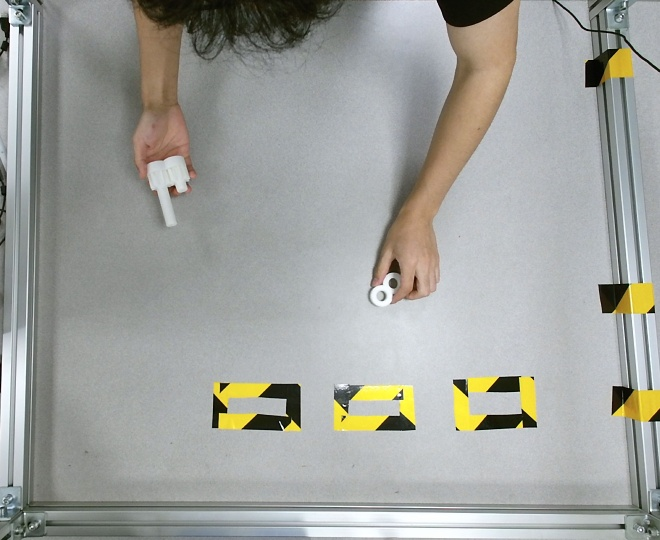stage_3: (146, 155, 188, 227)
